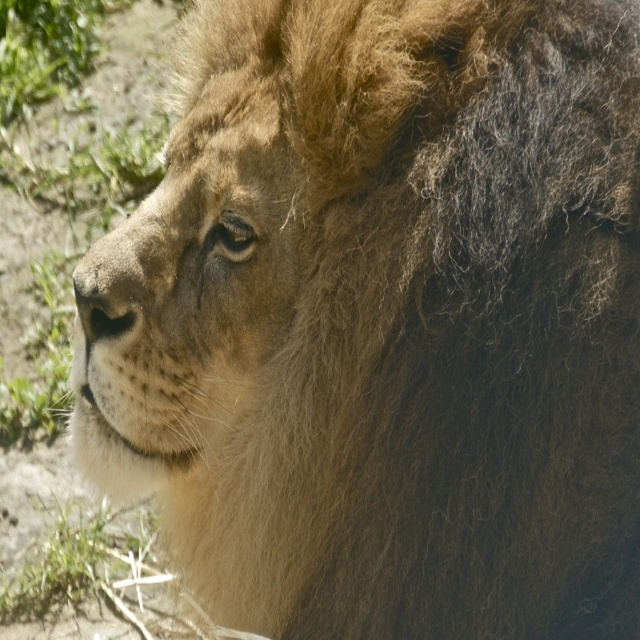Lion: (45, 0, 636, 639)
